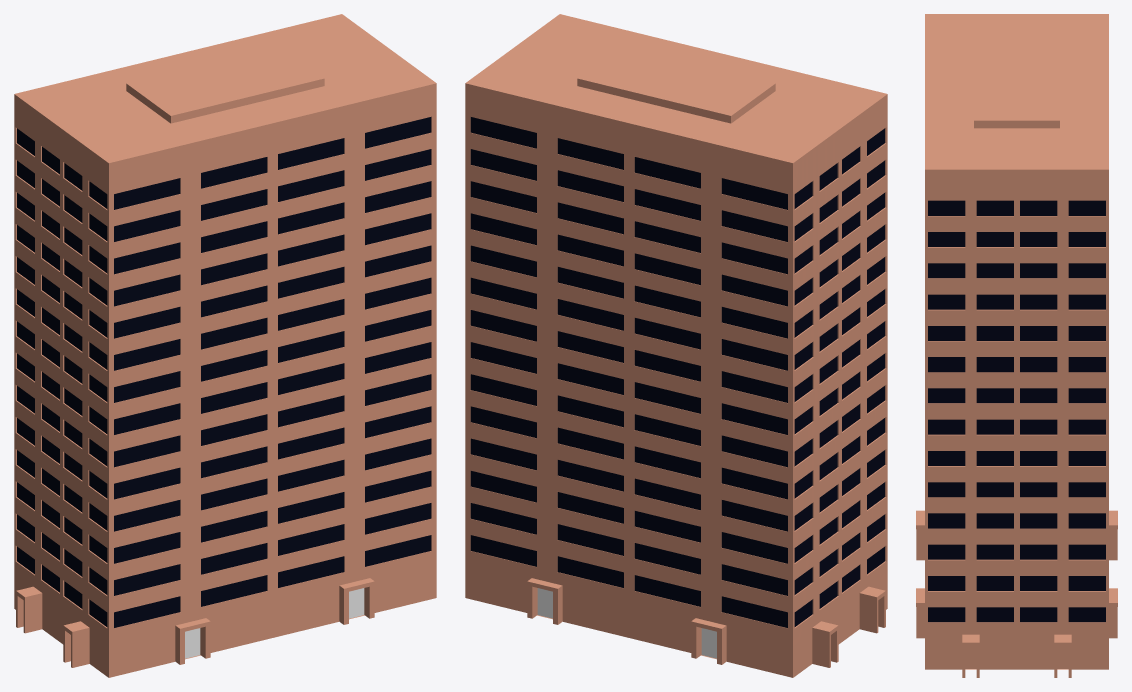
The picture shows the model from 3 angles, left to right: view 1: azimuth 30°, elevation 25°; view 2: azimuth 150°, elevation 25°; view 3: azimuth 270°, elevation 25°; orthographic projection. The views are drawn at different scales.
Visible parts, largest first — view 1: Cube.026; view 2: Cube.026; view 3: Cube.026.
Part boxes in pixels (box(x1,y1,x2,y2)): Cube.026: box(14, 14, 436, 677); Cube.026: box(465, 14, 887, 677); Cube.026: box(916, 14, 1117, 677).
Bounding box in the file's own units: 884 × 1218 × 439.
